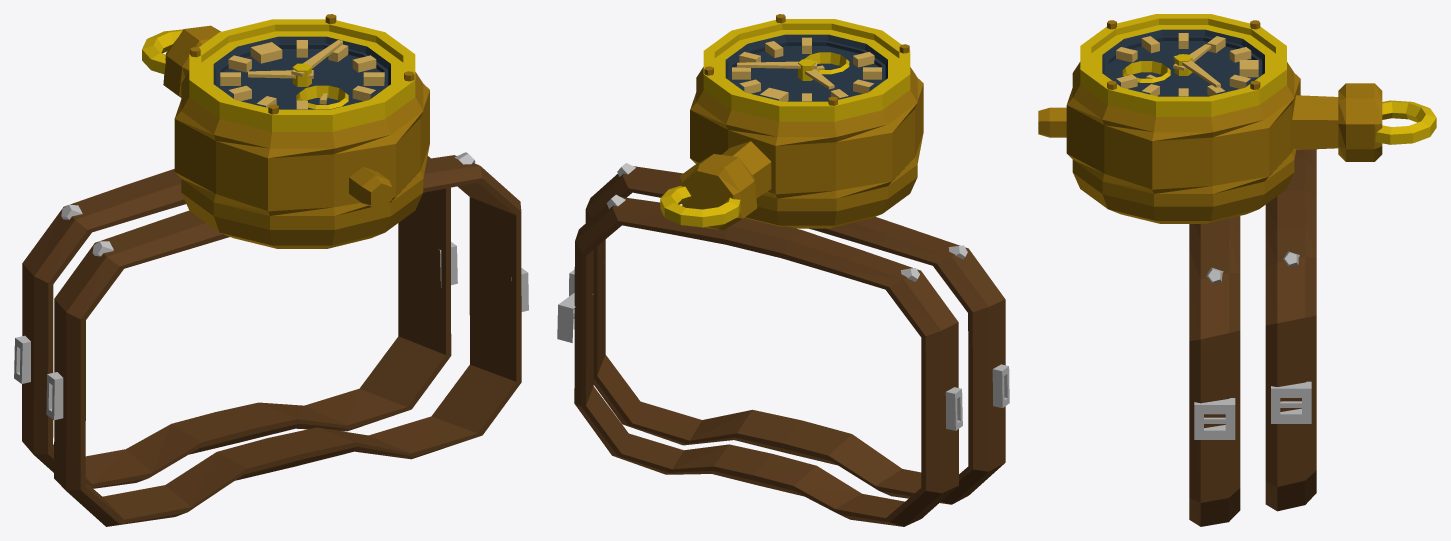
Rendered from pocket-watch-mount-f8ec49.glb.
3 views of the same model, side by side, from view 1: azimuth 30°, elevation 25°; view 2: azimuth 150°, elevation 25°; view 3: azimuth 270°, elevation 25° (orthographic). The views are drawn at different scales.
Parts seen in each view (by area): view 1: back; view 2: back; view 3: back.
Part boxes in pixels (x1,y1,x2,y2): back: (14,14,528,526); back: (557,14,1009,526); back: (1038,14,1436,526).
Size of the model in its own units: 0.0775 by 0.0687 by 0.0625.
